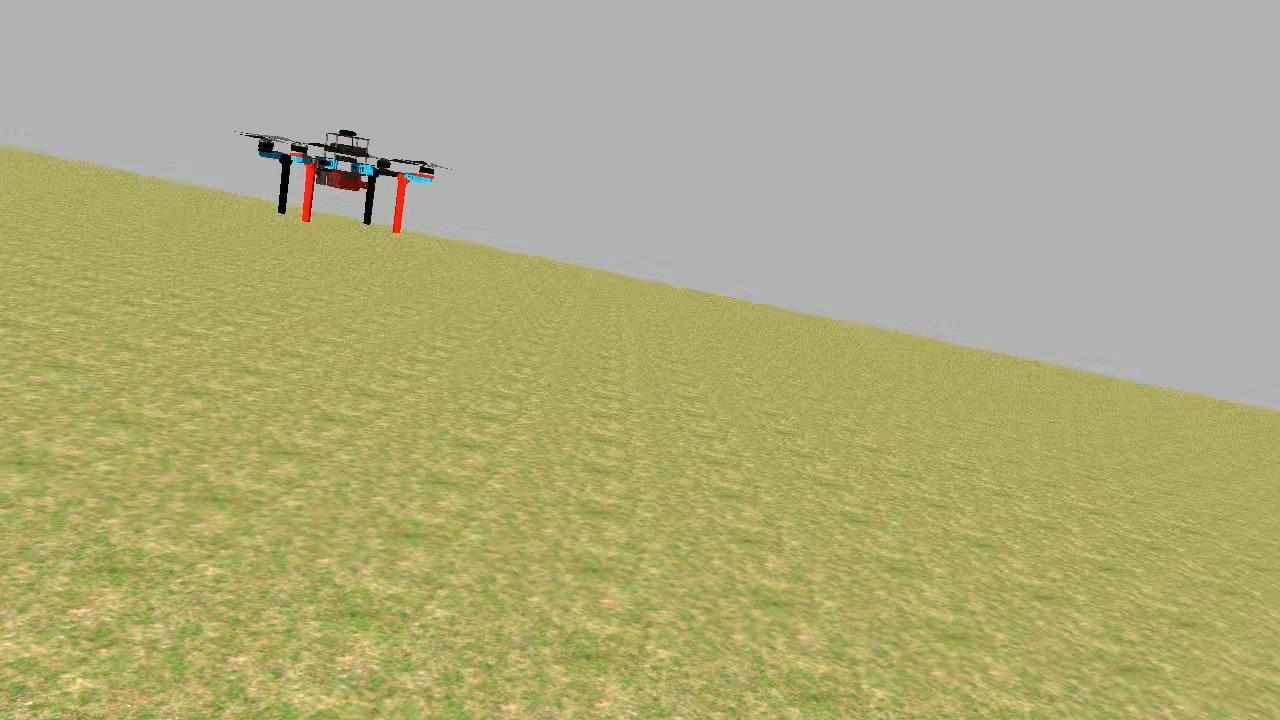UAV: (240, 122, 444, 232)
